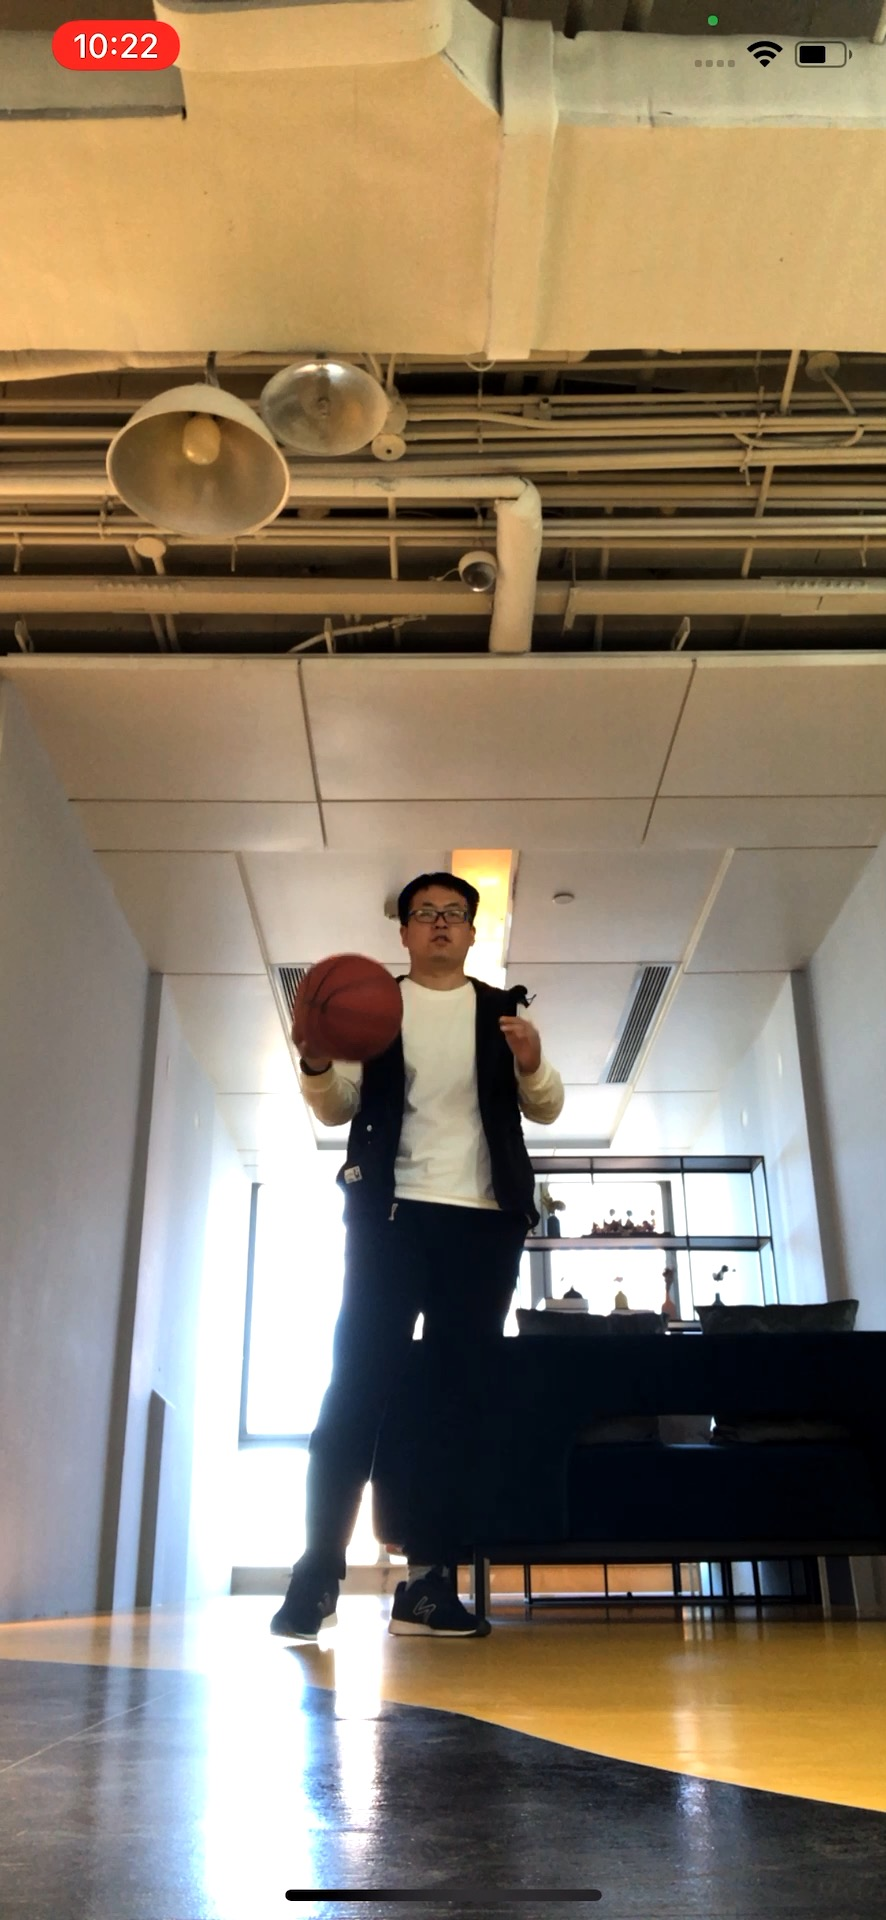ball: (292, 951, 406, 1068)
